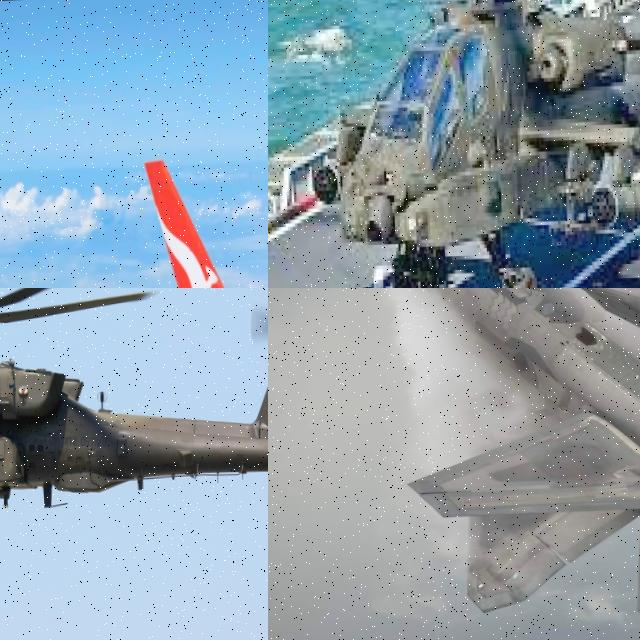A380: (0, 144, 268, 288)
Apache: (268, 0, 640, 288), (0, 288, 268, 558)
F22: (302, 288, 640, 640)
